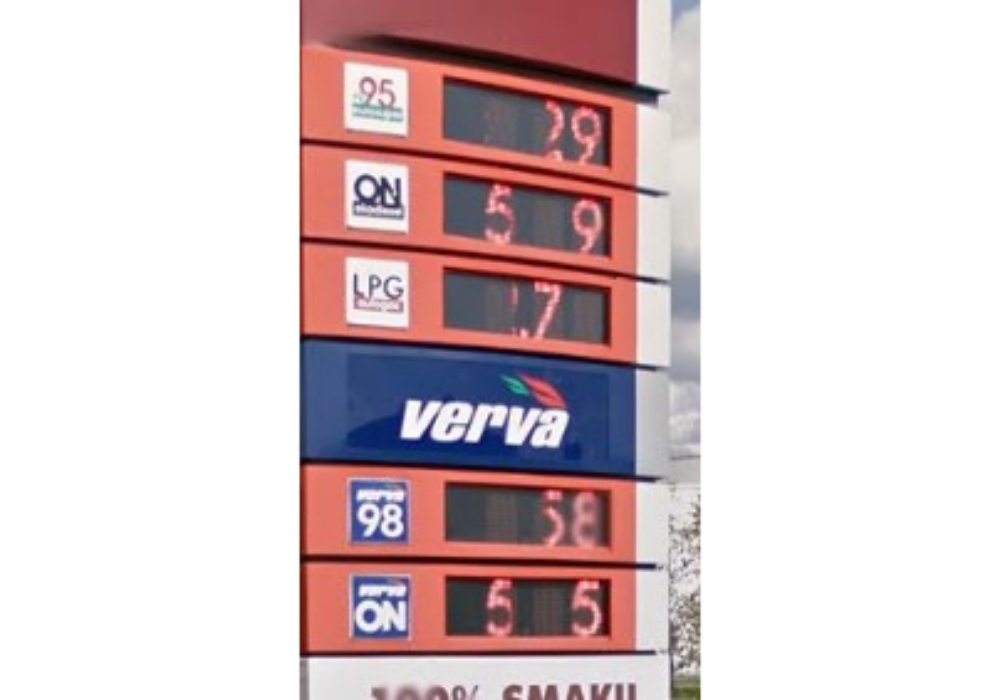LPG: (343, 254, 410, 331)
ON: (344, 160, 409, 231), (347, 569, 411, 640)
PB95: (342, 62, 412, 138)
PB98: (347, 475, 408, 542)
